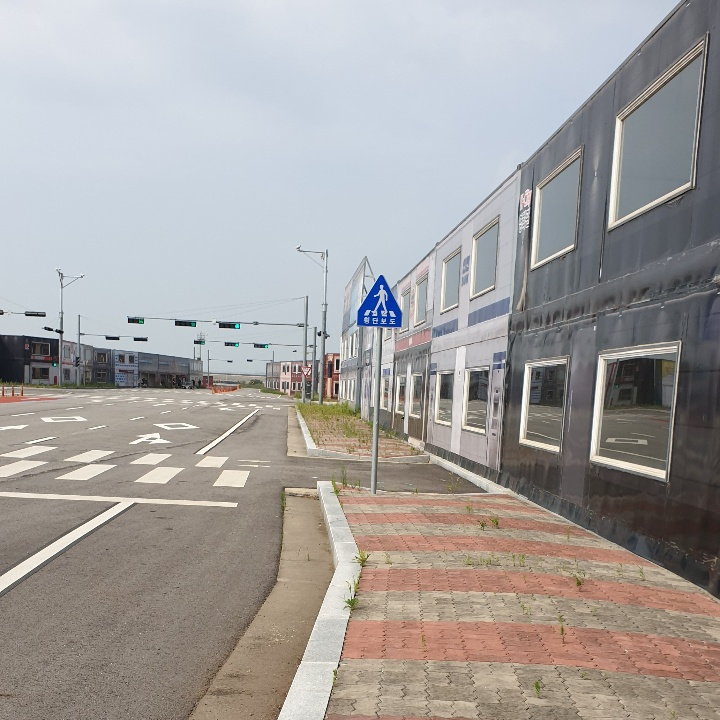cross: (364, 280, 395, 317)
